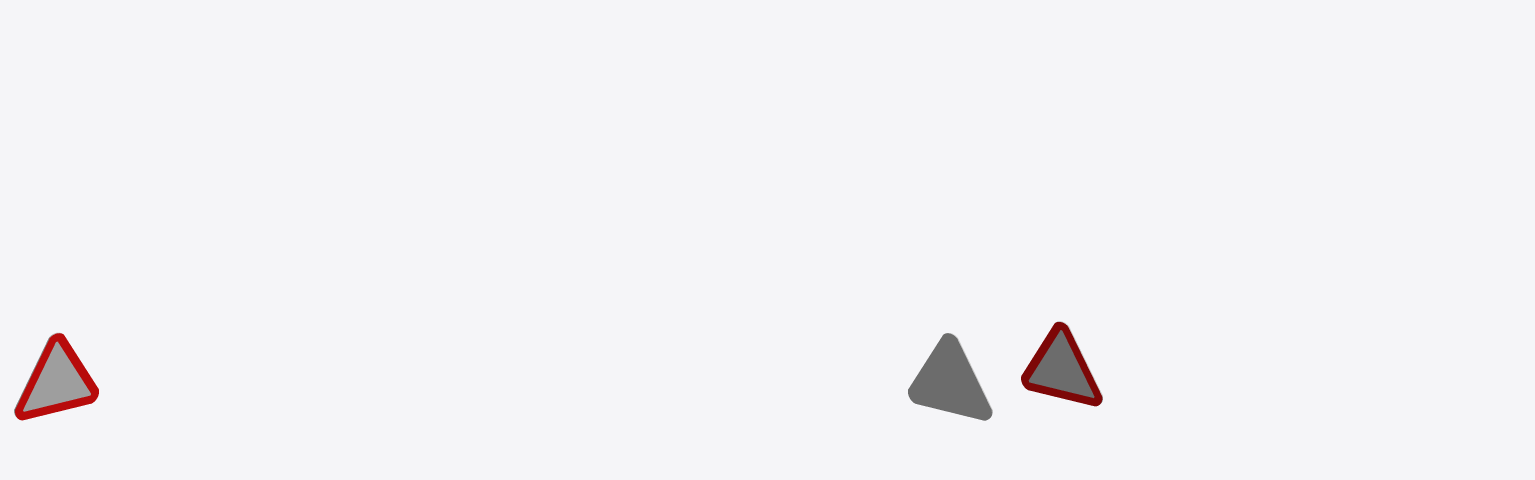
Rendered from warning.gltf.
3 views of the same model, side by side, from view 1: azimuth 30°, elevation 25°; view 2: azimuth 150°, elevation 25°; view 3: azimuth 330°, elevation 25° (orthographic). The views are drawn at different scales.
Parts seen in each view (by area): view 1: Material2.016, Material2.010; view 2: Material2.009; view 3: Material2.016, Material2.010.
Boxes of the visible parts, x1,y1,x2,y2 form: Material2.016: (23,341,90,411); Material2.010: (15,333,98,420); Material2.009: (908,333,992,420); Material2.016: (1028,330,1094,397); Material2.010: (1021,322,1102,406).
Size of the model in its own units: 150 by 132 by 25.12.
